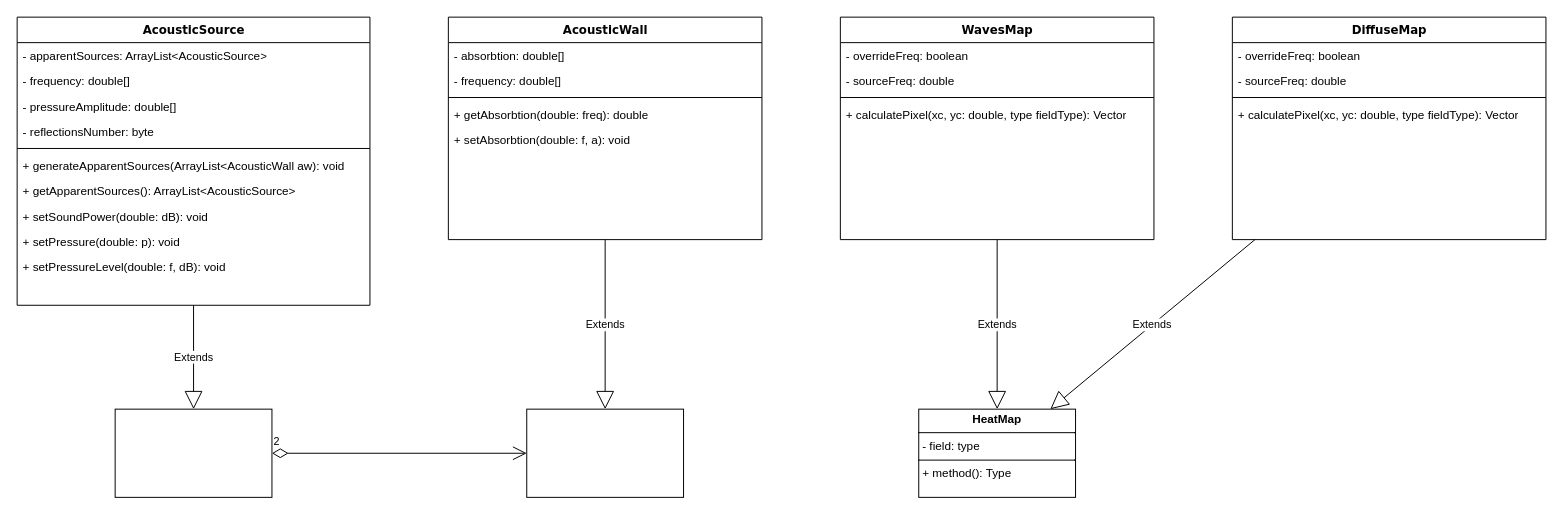
This 1563x515 diagram has some shape labels left out. Here are the shapes that lost their labels. From the top down, the centre of each, then its label:
(193,452): PointMass - x, y: double + method(): Type
(605,452): Pair - p1, p2: PointMass + method(): Type
